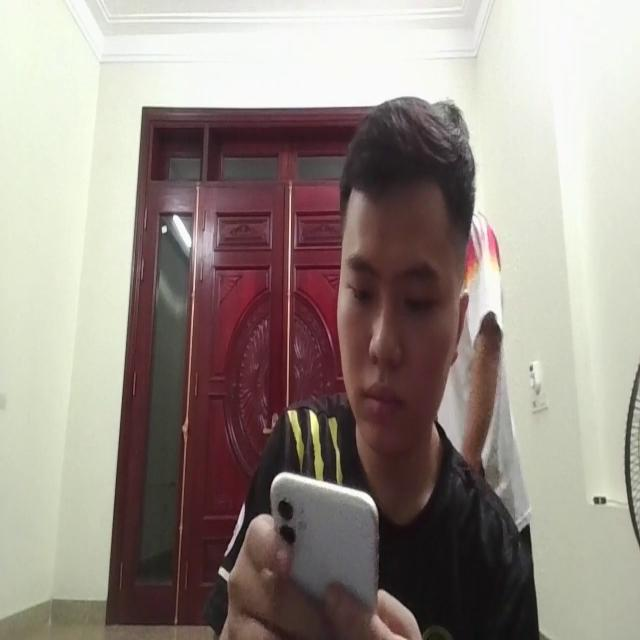phone: (262, 454, 386, 630)
student: (212, 86, 532, 640)
